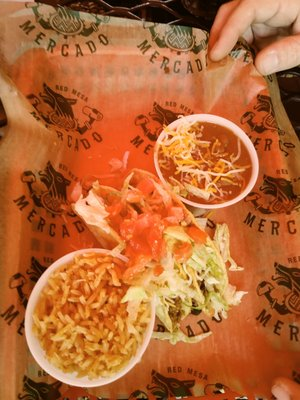sushi: (23, 248, 156, 388), (154, 114, 260, 212)
